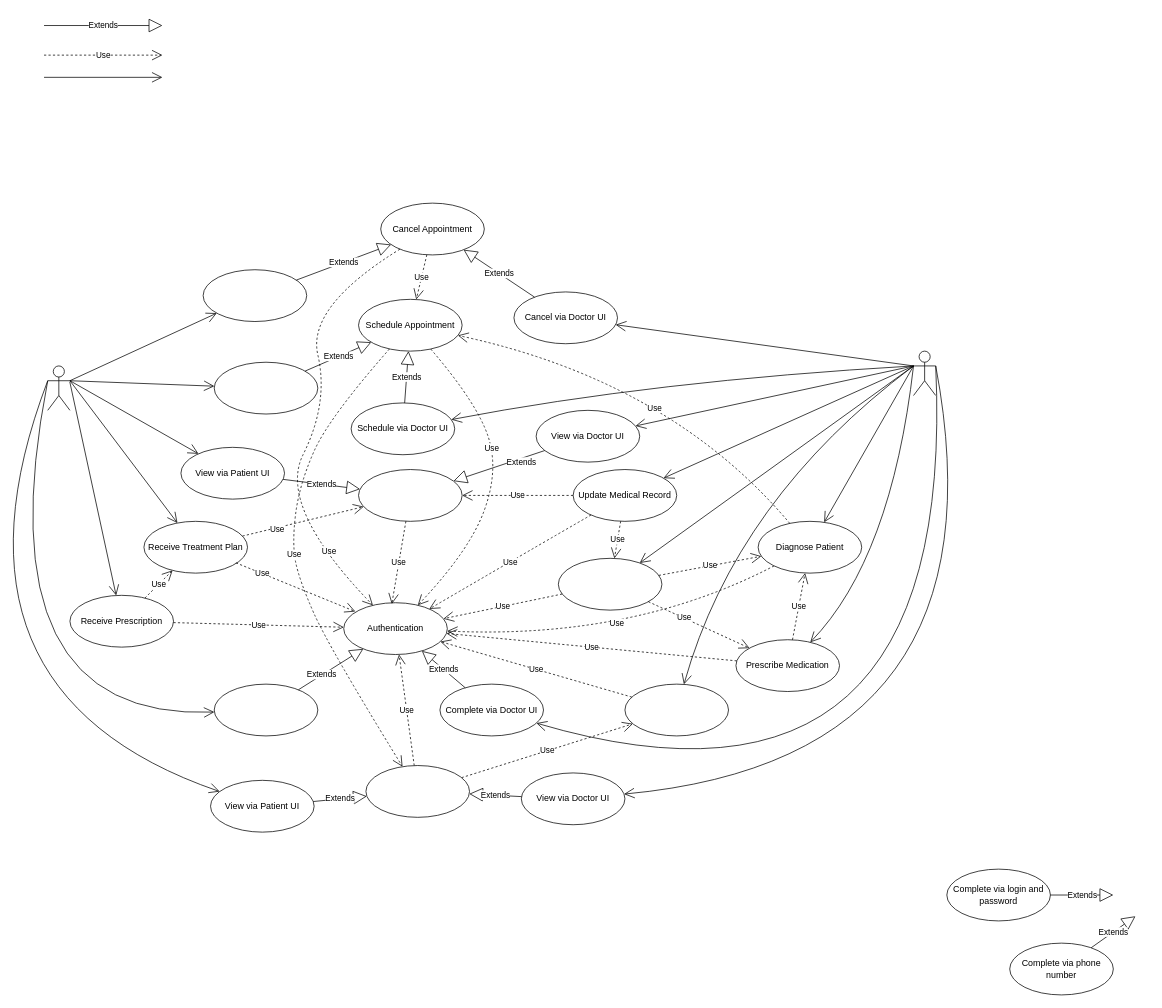
Image size: 1162x1008. Some labels were removed from this diagram. Here are the shapes that lost their labels. From the top down, the centre of each, then its label:
the point at 254,295: Cancel via Patient UI
the point at 58,387: Patient
the point at 265,387: Schedule via Patient UI
the point at 924,373: Doctor
the point at 410,495: View Medical Record
the point at 610,584: Create Treatment Plan
the point at 265,709: Complete via Patient UI
the point at 676,709: Provide Working Hours
the point at 417,791: View Appointment Schedule
